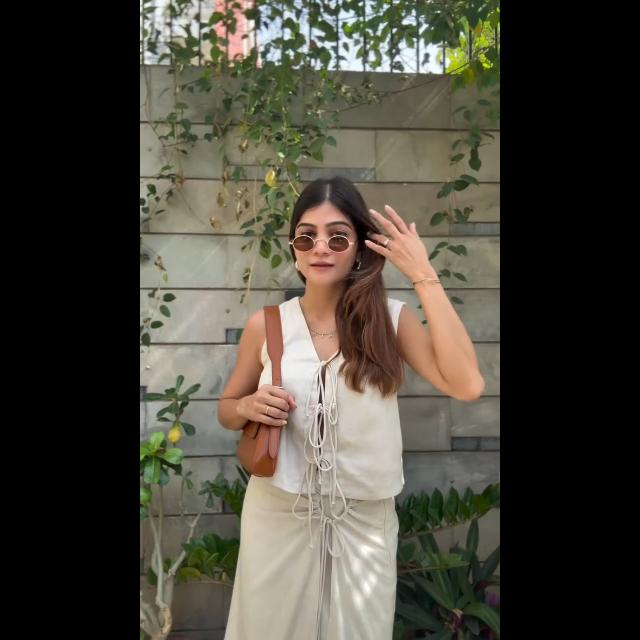dress: (247, 308, 399, 640)
glasses: (292, 232, 350, 250)
handbag: (238, 308, 290, 474)
